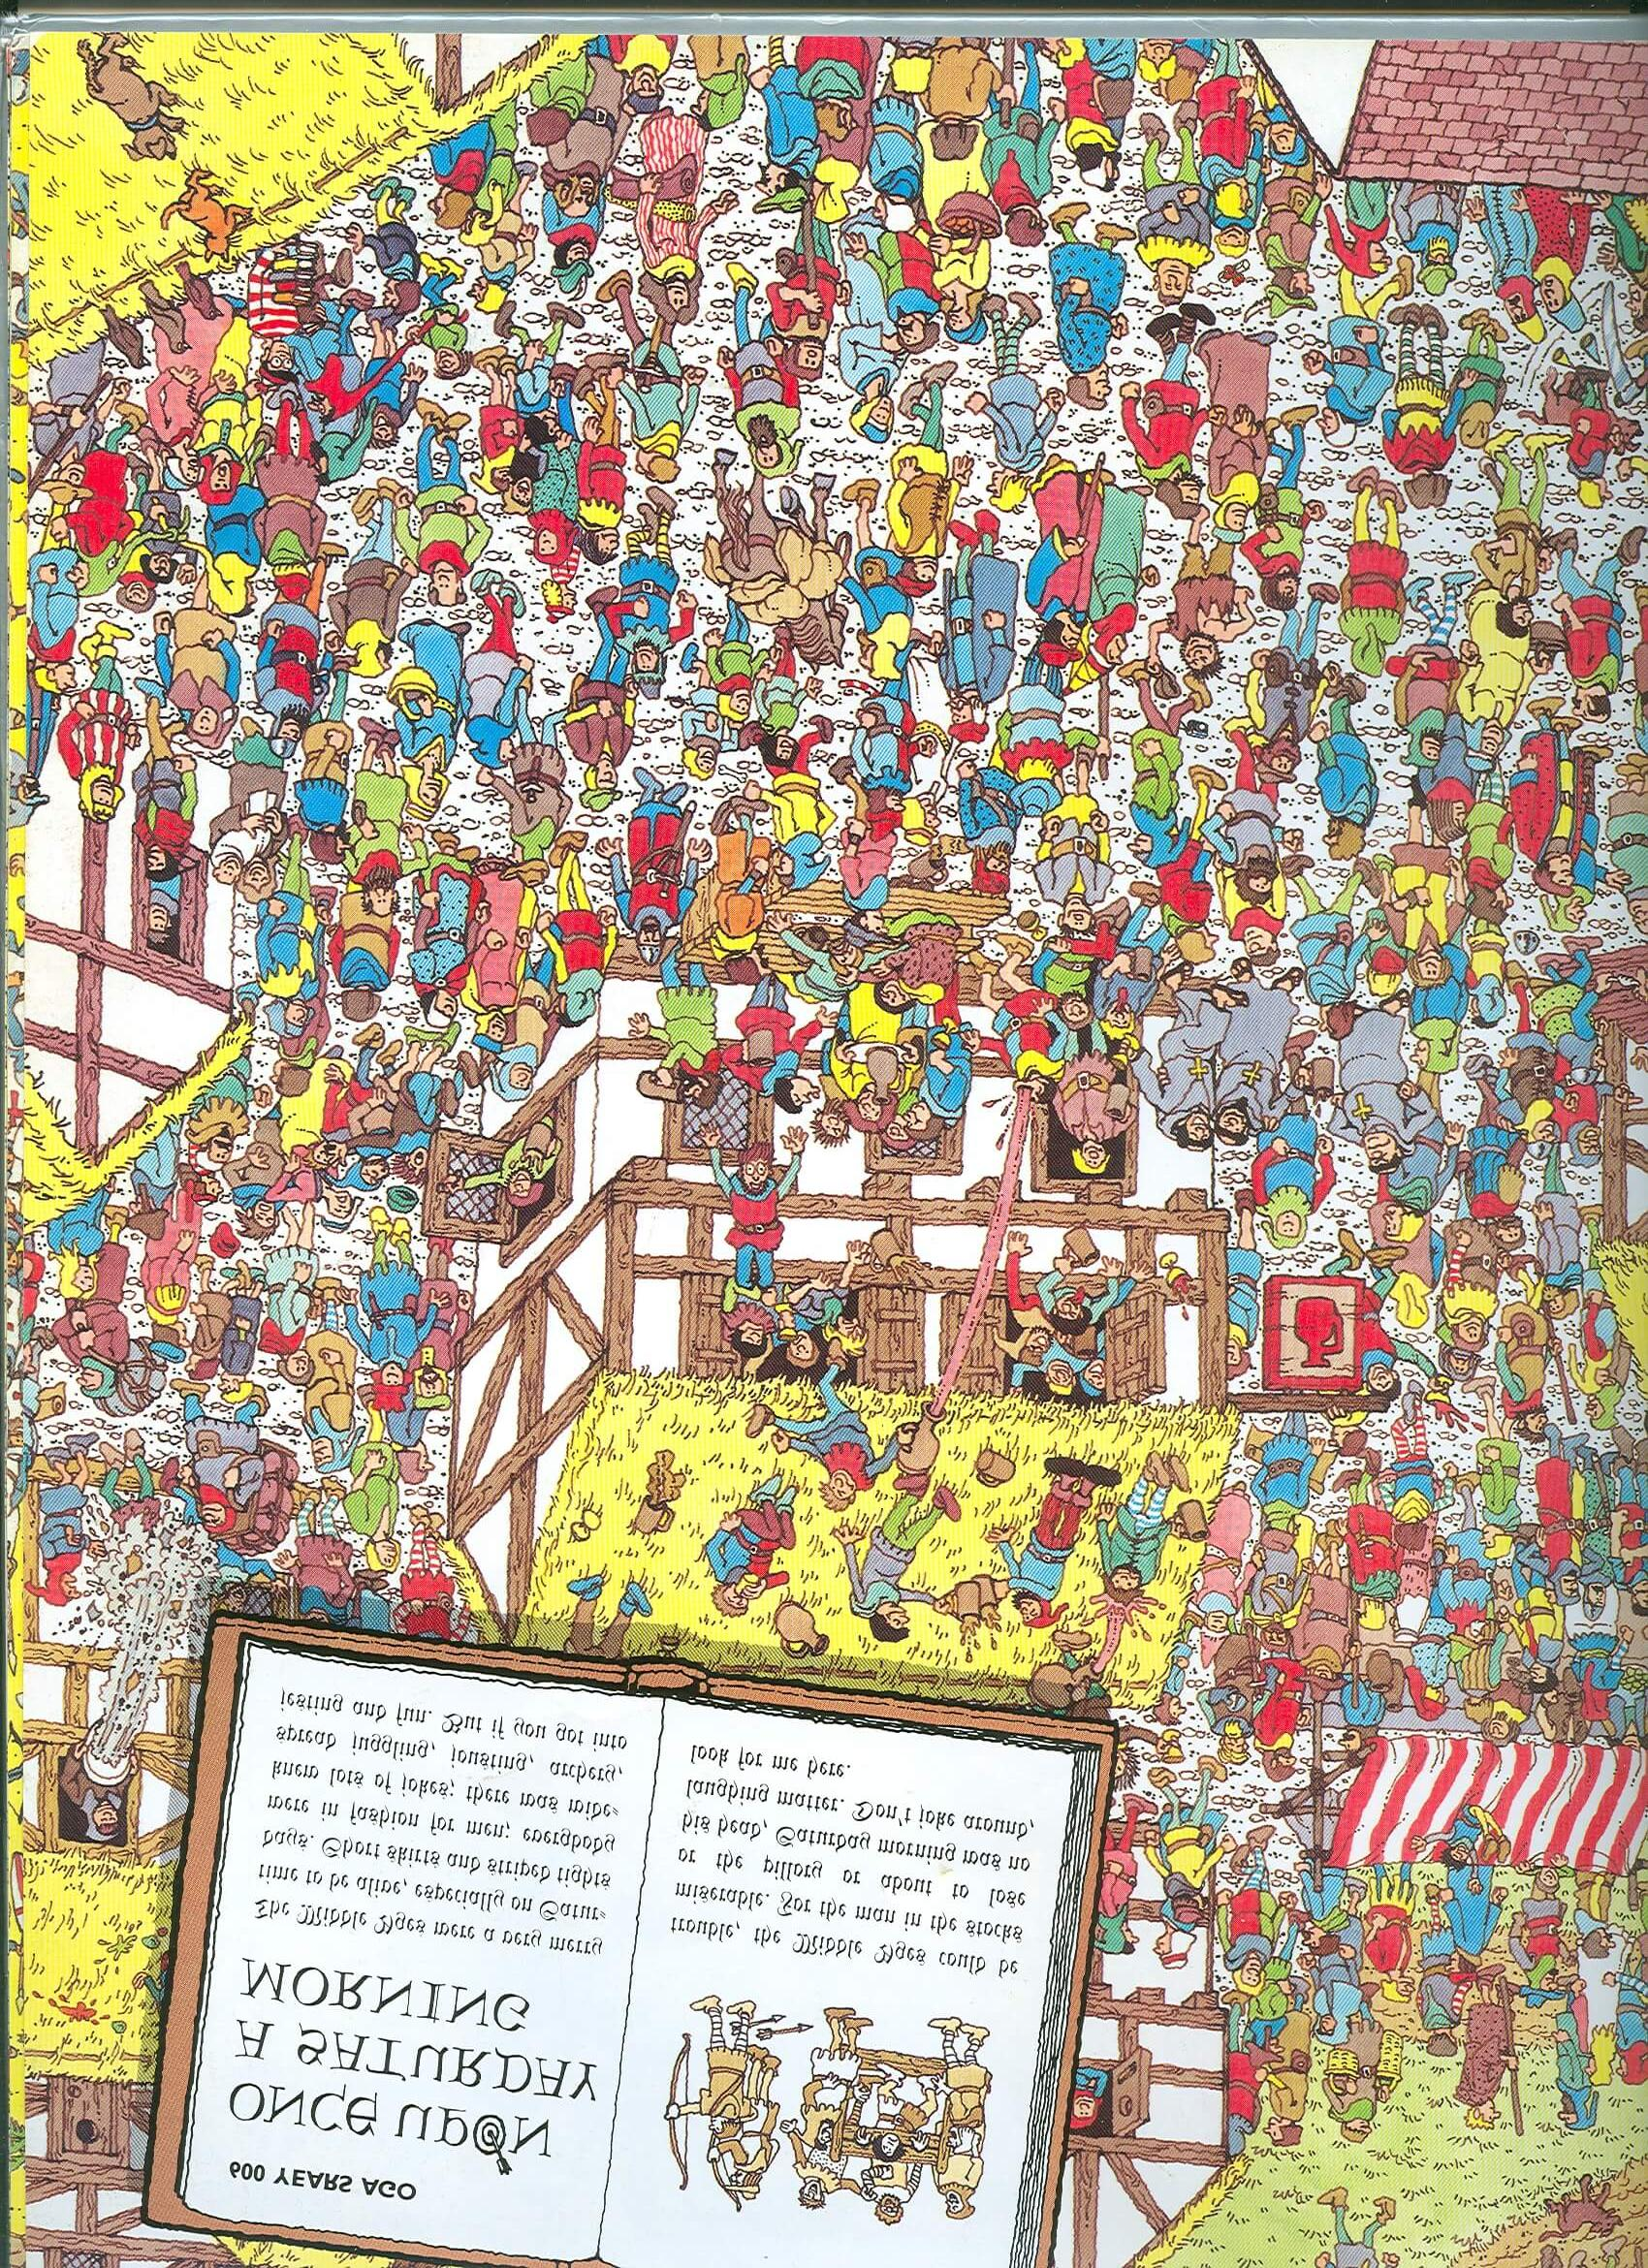waldos: (245, 234, 331, 398)
